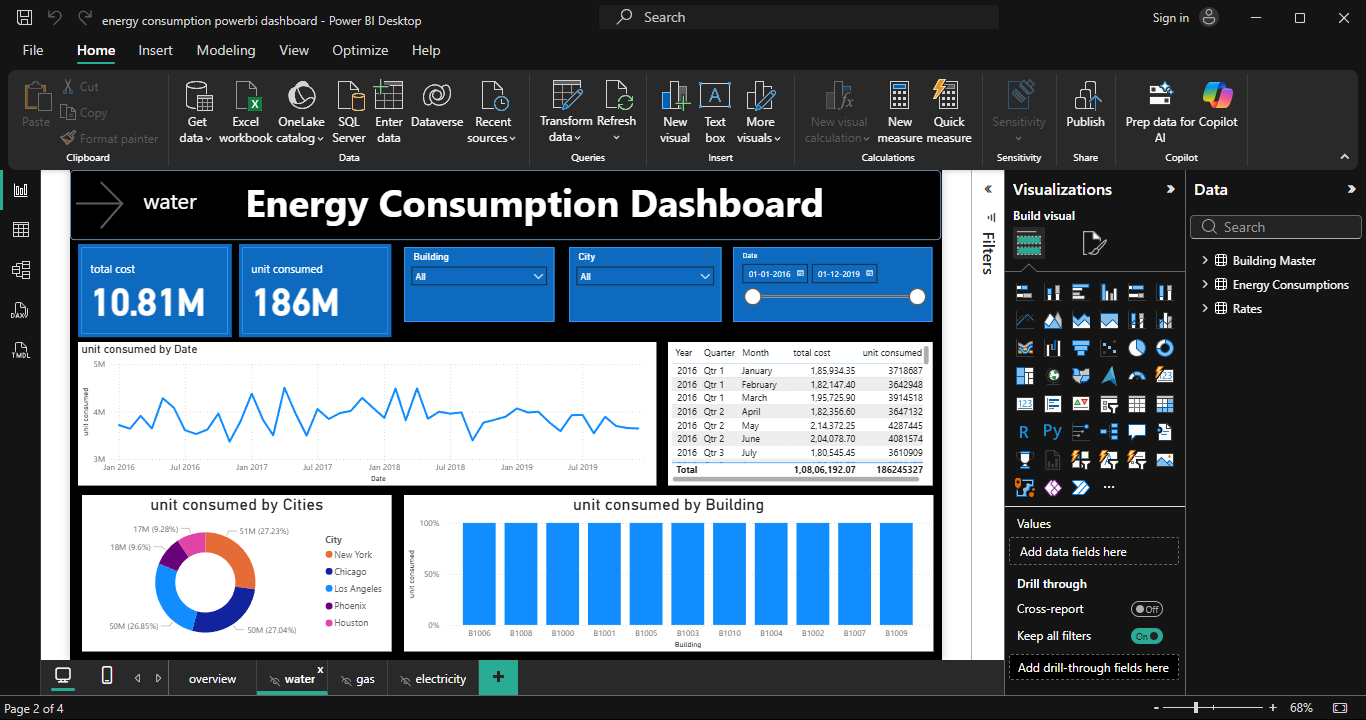

Layout of this report page (visuals, bound fields, positions):
{"tool":"powerbi","page":{"name":"water","canvas":[1280,720],"ordinal":1},"visuals":[{"type":"textbox","box":[0,0,1279.5,102.7],"z":0},{"type":"cardVisual","fields":{"Data":["Energy Consumptions.total cost"]},"box":[11.6,108.4,225.5,137.3],"z":1000},{"type":"cardVisual","fields":{"Data":["Energy Consumptions.unit consumed"]},"box":[248.7,108.4,224.1,137.3],"z":2000},{"type":"slicer","fields":{"Values":["Building Master.Building"]},"box":[490.1,112.8,221.2,109.9],"z":3000},{"type":"slicer","fields":{"Values":["Building Master.City"]},"box":[733,112.8,224.1,109.9],"z":4000},{"type":"slicer","fields":{"Values":["Energy Consumptions.Date"]},"box":[974.5,112.8,293.5,109.9],"z":5000},{"type":"tableEx","title":"total cost by time and Consumption type","fields":{"Values":["Energy Consumptions.Date.Variation.Date Hierarchy.Year","Energy Consumptions.Date.Variation.Date Hierarchy.Quarter","Energy Consumptions.Date.Variation.Date Hierarchy.Month","Energy Consumptions.total cost","Energy Consumptions.unit consumed"]},"box":[879,253,388.9,211.1],"z":6000},{"type":"donutChart","title":"unit consumed by Cities","fields":{"Y":["Energy Consumptions.unit consumed"],"Category":["Building Master.City"]},"box":[17.3,477.1,455.4,229.9],"z":7000},{"type":"hundredPercentStackedColumnChart","fields":{"Y":["Energy Consumptions.unit consumed"],"Category":["Energy Consumptions.Building"]},"box":[490.1,477.1,777.8,229.9],"z":8000},{"type":"textbox","box":[102.7,17.3,105.5,68],"z":9000},{"type":"lineChart","fields":{"Y":["Energy Consumptions.unit consumed"],"Category":["Energy Consumptions.Date"]},"box":[11.6,253,850.1,211.1],"z":10000},{"type":"actionButton","box":[0,9,99.2,85.6],"z":10001}]}

Visuals, with their boxes on the page's 1280x720 design canvas (x1, y1, x2, y2). These are canvas units, not pixel positions in the 1366x720 screenshot, which may show the page scaled, cropped or inside an application window:
textbox: pyautogui.locateOnScreen(0, 0, 1280, 103)
cardVisual - Energy Consumptions.total cost: pyautogui.locateOnScreen(12, 108, 237, 246)
cardVisual - Energy Consumptions.unit consumed: pyautogui.locateOnScreen(249, 108, 473, 246)
slicer - Building Master.Building: pyautogui.locateOnScreen(490, 113, 711, 223)
slicer - Building Master.City: pyautogui.locateOnScreen(733, 113, 957, 223)
slicer - Energy Consumptions.Date: pyautogui.locateOnScreen(974, 113, 1268, 223)
"total cost by time and Consumption type" tableEx: pyautogui.locateOnScreen(879, 253, 1268, 464)
"unit consumed by Cities" donutChart: pyautogui.locateOnScreen(17, 477, 473, 707)
hundredPercentStackedColumnChart - Energy Consumptions.unit consumed x Energy Consumptions.Building: pyautogui.locateOnScreen(490, 477, 1268, 707)
textbox: pyautogui.locateOnScreen(103, 17, 208, 85)
lineChart - Energy Consumptions.unit consumed x Energy Consumptions.Date: pyautogui.locateOnScreen(12, 253, 862, 464)
actionButton: pyautogui.locateOnScreen(0, 9, 99, 95)
